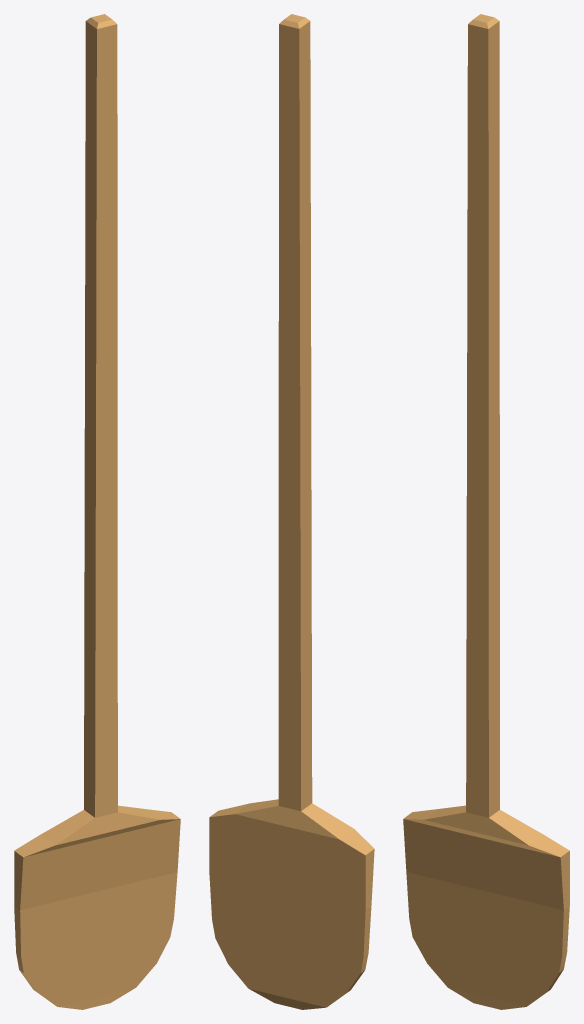
The model's file is PizzaSpade.fbx.
The picture shows the model from 3 angles, left to right: view 1: azimuth 30°, elevation 25°; view 2: azimuth 150°, elevation 25°; view 3: azimuth 330°, elevation 25°; orthographic projection.
Parts seen in each view (by area): view 1: PizzaSpade; view 2: PizzaSpade; view 3: PizzaSpade.
Part boxes in pixels (x1,y1,x2,y2): PizzaSpade: [14, 14, 180, 1009]; PizzaSpade: [209, 14, 374, 1009]; PizzaSpade: [403, 14, 569, 1009].
Bounding box in the file's own units: 2.9 × 17.45 × 0.4727.
